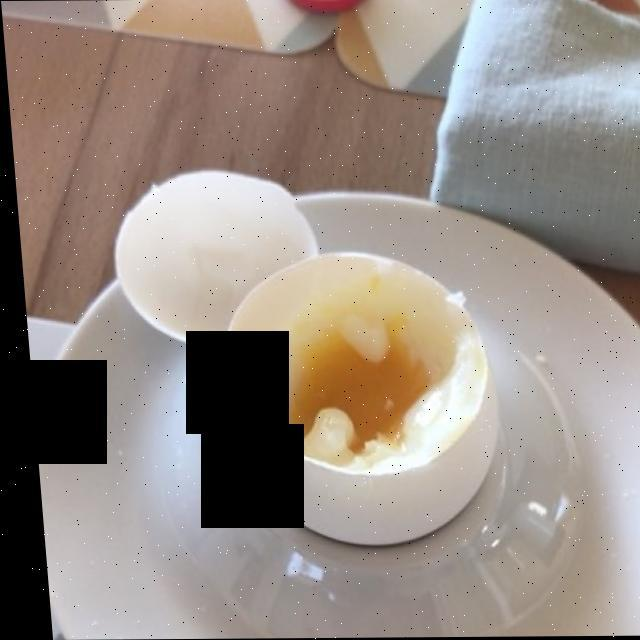egg: (232, 258, 483, 475)
